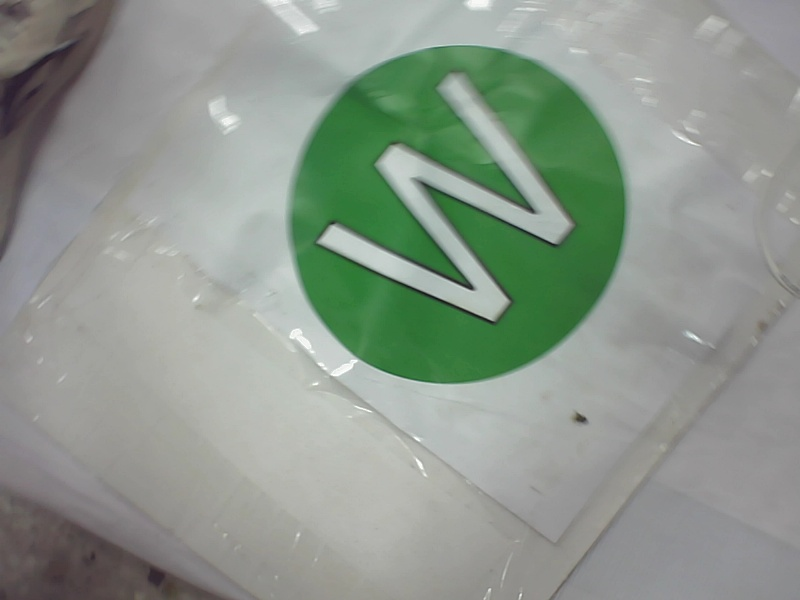areaB: (278, 39, 635, 394)
